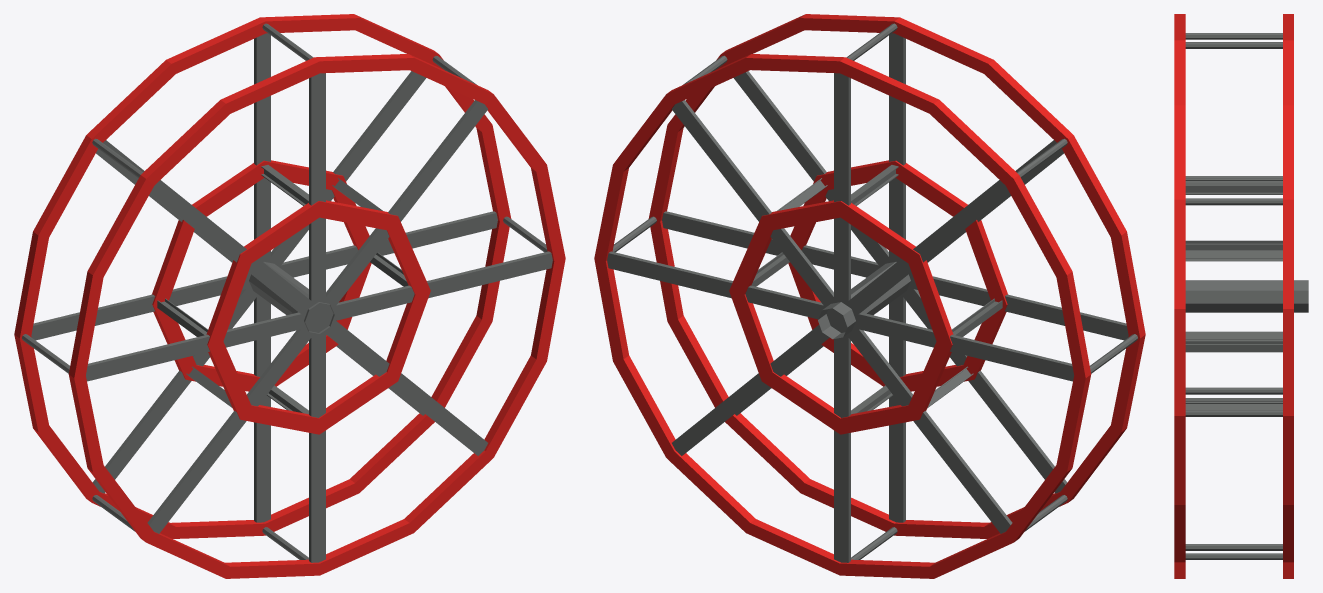
File: ferrisWheelWithoutCabs.fbx
3 views of the same model, side by side, from view 1: azimuth 30°, elevation 25°; view 2: azimuth 150°, elevation 25°; view 3: azimuth 270°, elevation 25° (orthographic).
Parts seen in each view (by area): view 1: Ferris Wheel; view 2: Ferris Wheel; view 3: Ferris Wheel.
Boxes of the visible parts, x1,y1,x2,y2 form: Ferris Wheel: (14,14,565,578); Ferris Wheel: (594,14,1145,578); Ferris Wheel: (1174,14,1308,578).
Bounding box in the file's own units: 1544 × 367 × 1544.
